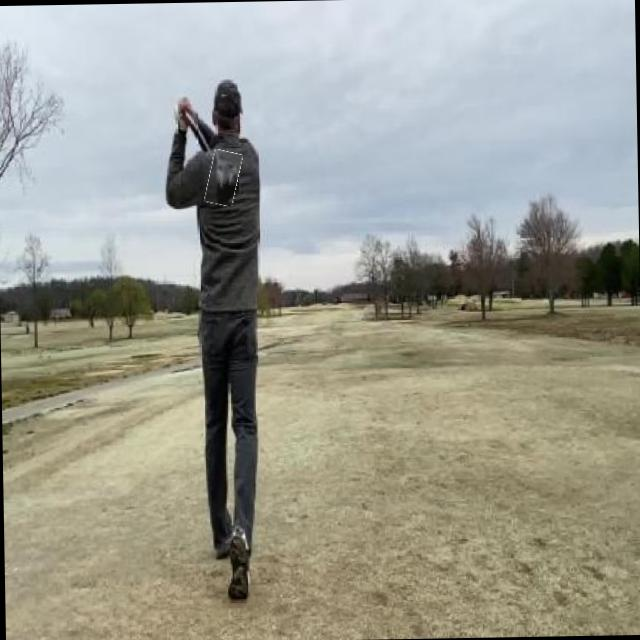club head: (206, 149, 241, 205)
